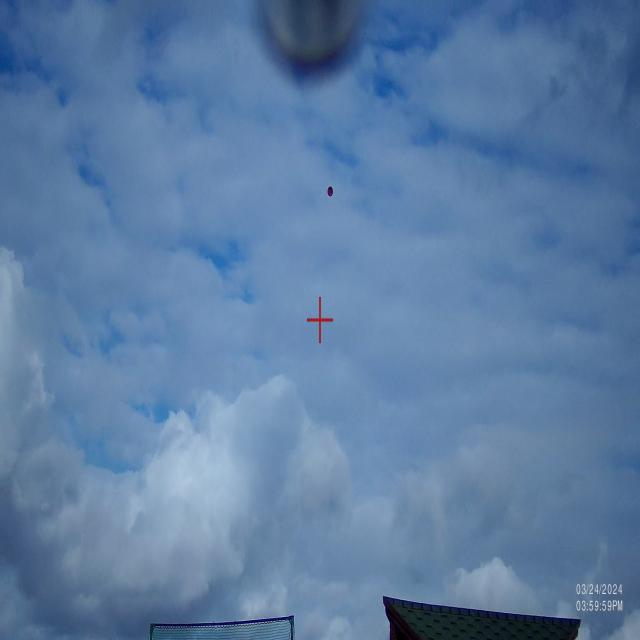entire: (324, 181, 339, 204)
